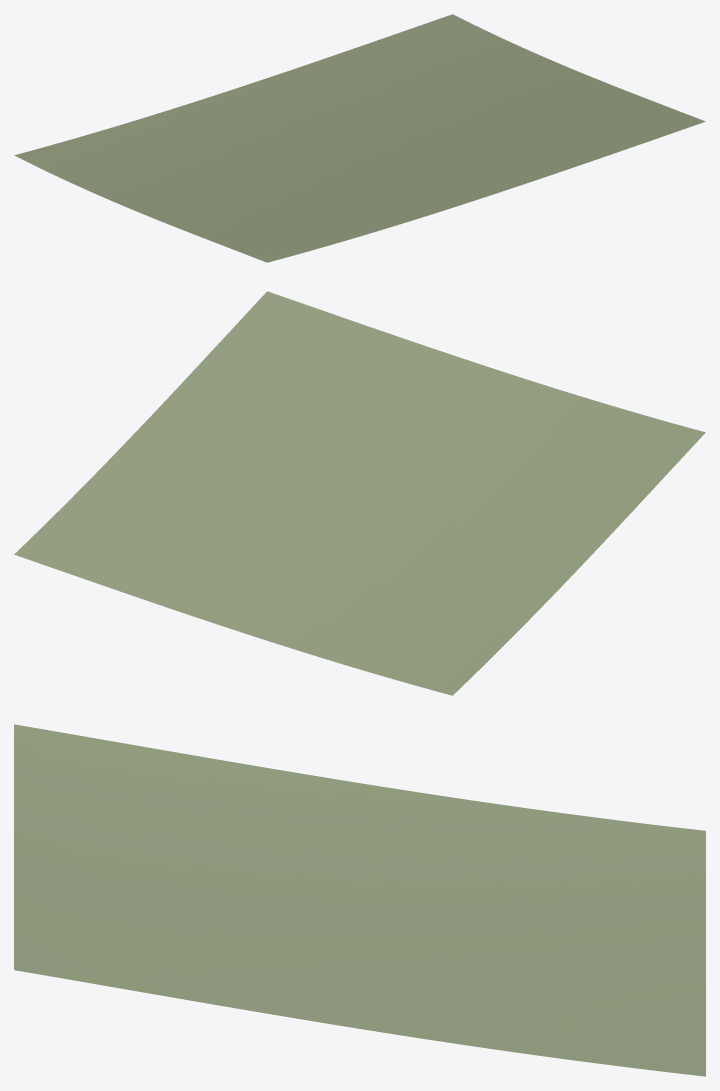
Rendered from valley-9-13.glb.
3 views of the same model, one above another, from view 1: azimuth 30°, elevation 25°; view 2: azimuth 150°, elevation 25°; view 3: azimuth 270°, elevation 25° (orthographic). The views are drawn at different scales.
Visible parts, largest first — view 1: valley-9-13; view 2: valley-9-13; view 3: valley-9-13.
Part boxes in pixels (left/top/right/bottom): valley-9-13: left=14, top=14, right=705, bottom=262; valley-9-13: left=14, top=291, right=705, bottom=695; valley-9-13: left=14, top=724, right=705, bottom=1076.
Size of the model in its own units: 256 by 62.52 by 256.
